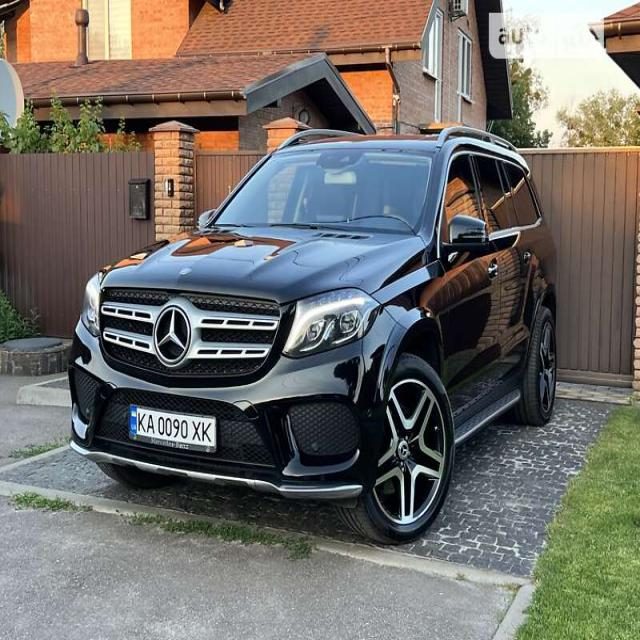plate: (127, 402, 219, 456)
